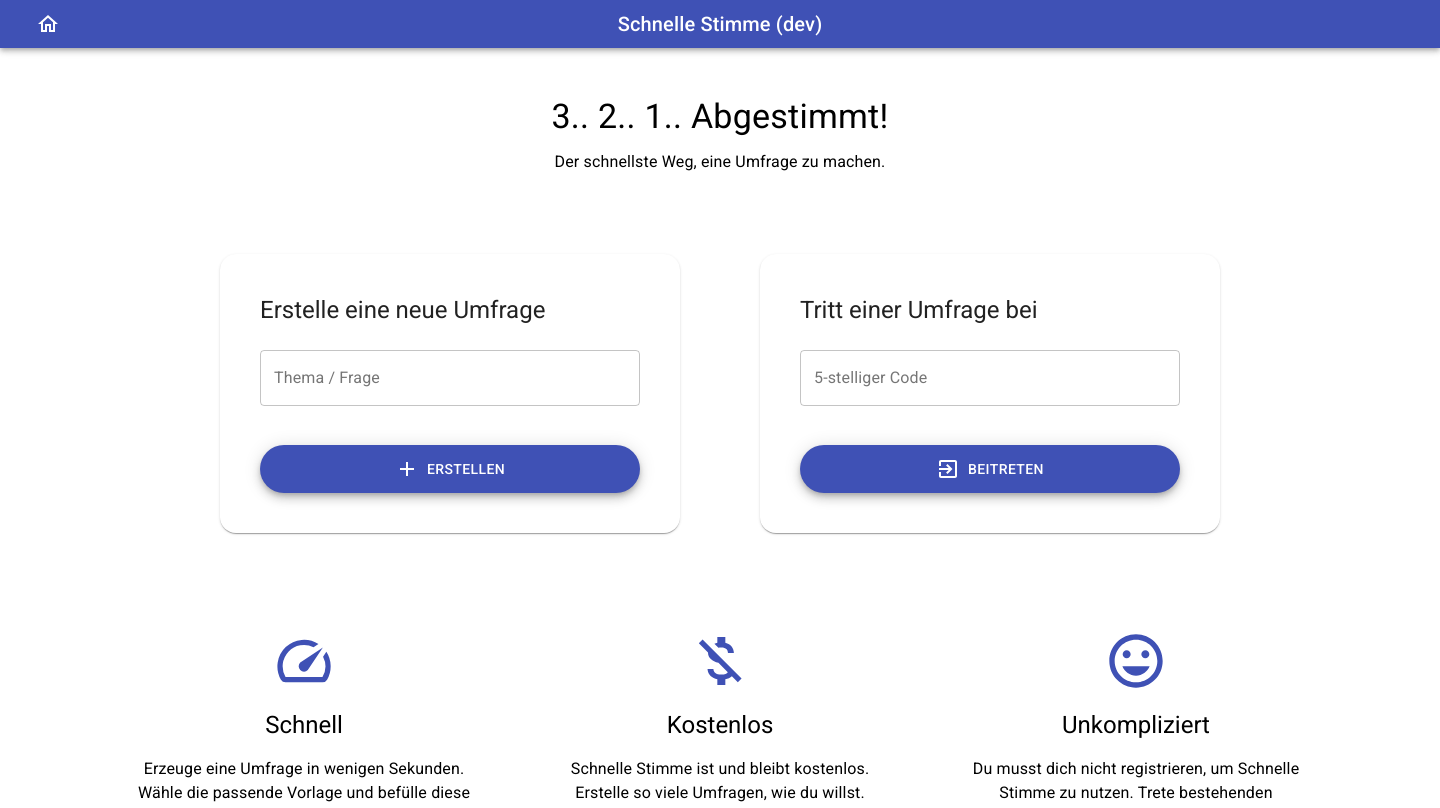
Test: PollCreationCallToAction › it forwards the current topic to the creation page after clicking on the submit button
Step 1. Type "Banana" into the field labelled "Thema / Frage" → (450, 378), box [260,350,640,406]
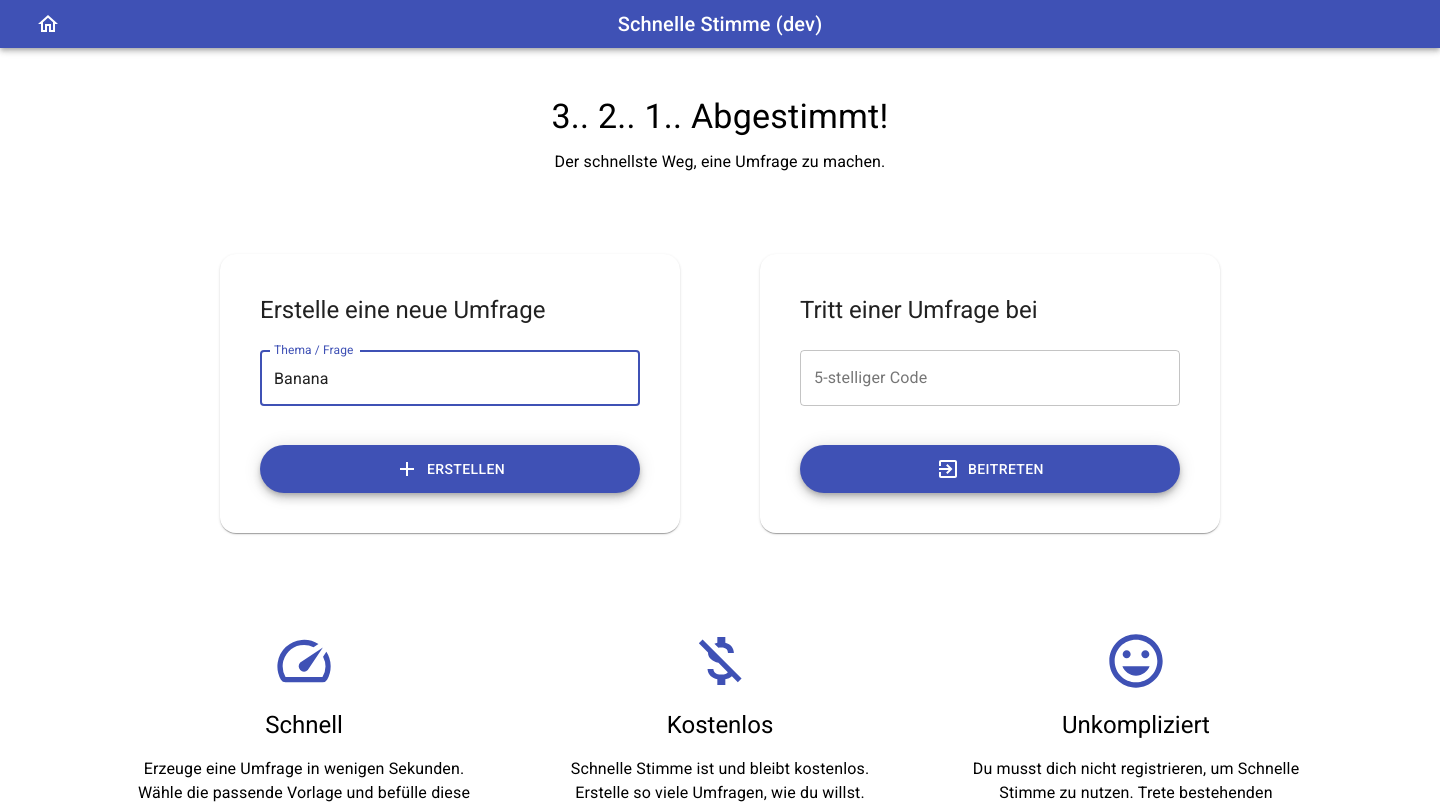
Step 2. Click the button "erstellen" → (450, 469), box [260,445,640,493]
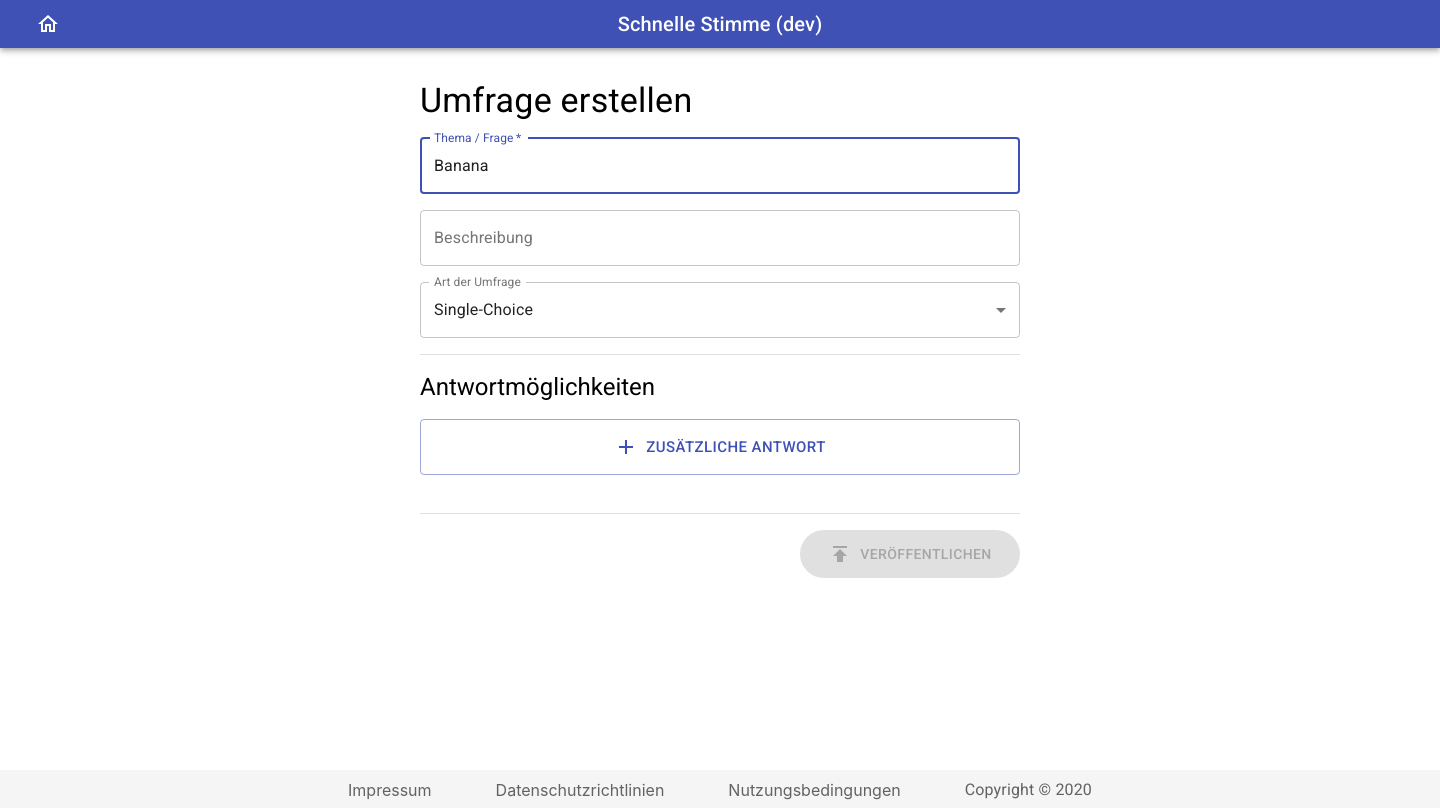
Check: the field showing "Banana" is shown, box [420,138,1020,194]
